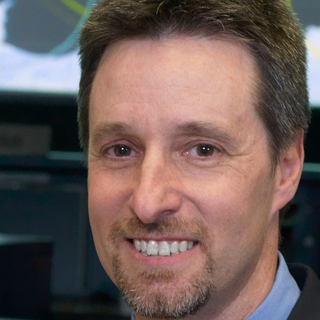eye: (179, 139, 229, 164), (99, 139, 144, 164)
